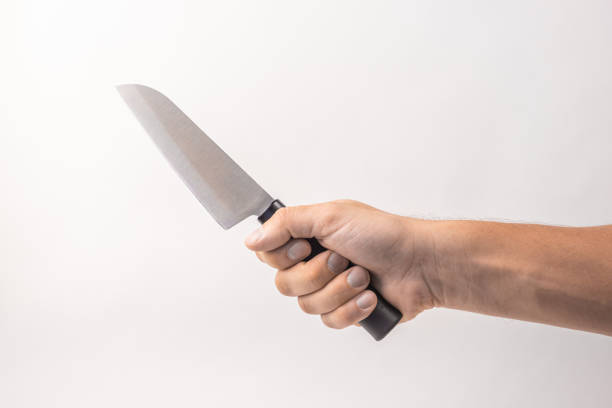knife: (116, 78, 403, 342)
